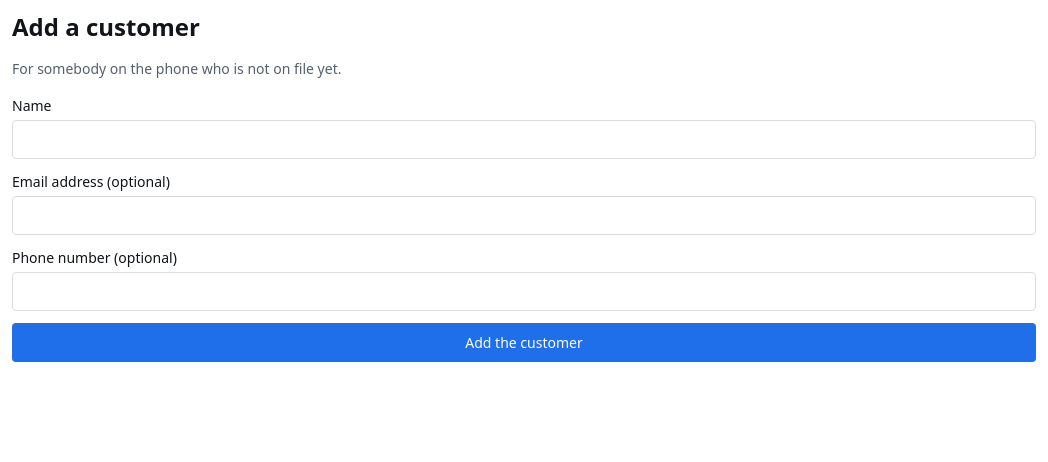
Test case: a blank optional field is ABSENT from the request, not an empty string
The width and height of the screenshot is (1048, 462).
Type "Nadia Farouk" into the field labelled "Name" at (524,140), box [12, 120, 1036, 159]
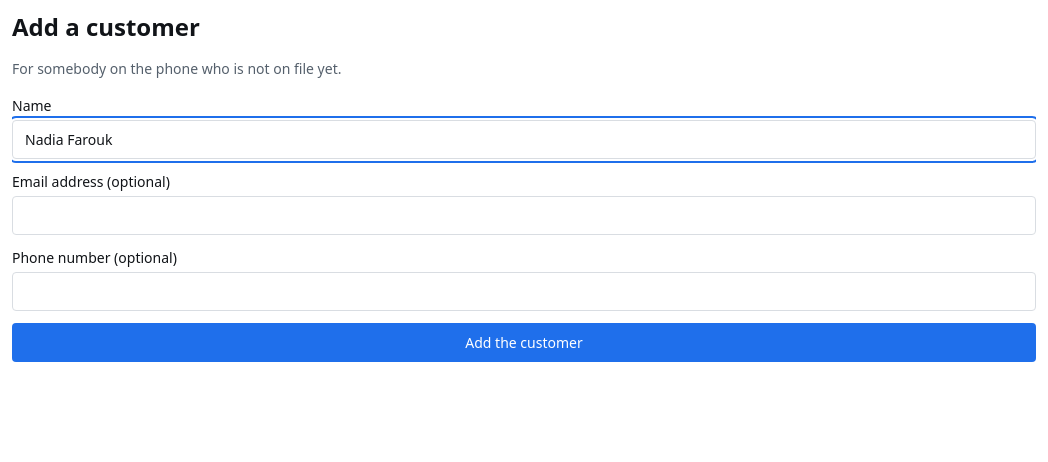
Click the button "Add the customer" at (524,342), box [12, 323, 1036, 362]
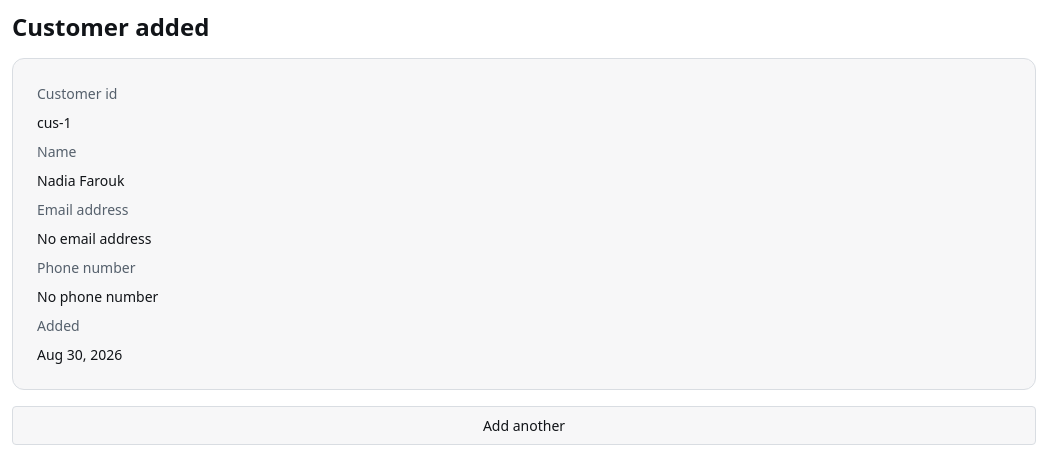
Now the text "cus-1" is shown, box [37, 113, 72, 132]
